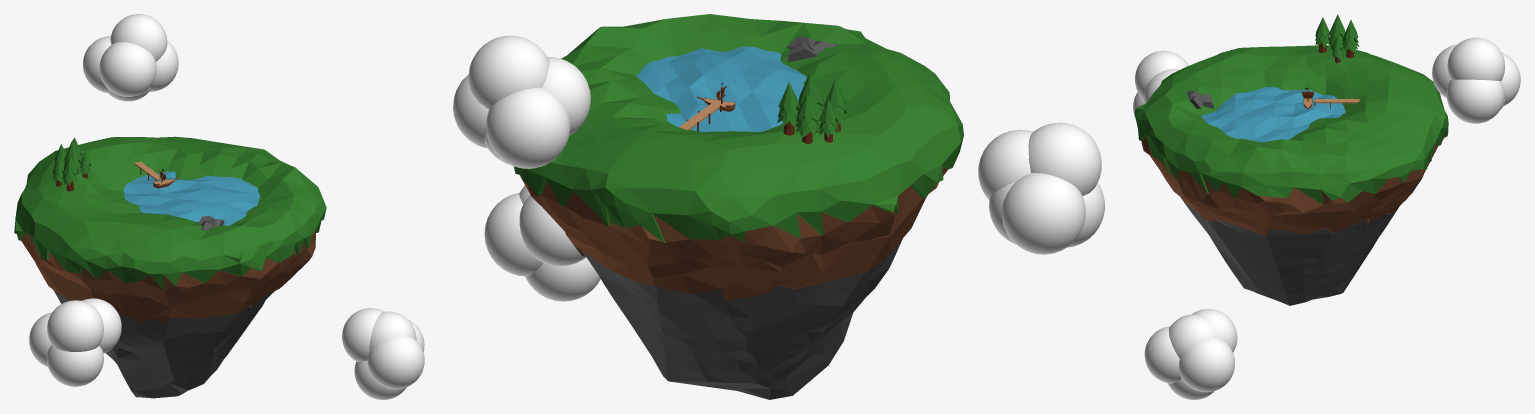
The picture shows the model from 3 angles, left to right: view 1: azimuth 30°, elevation 25°; view 2: azimuth 150°, elevation 25°; view 3: azimuth 270°, elevation 25°; orthographic projection. The views are drawn at different scales.
Visible parts, largest first — view 1: Island, Clouds; view 2: Island, Clouds; view 3: Island, Clouds.
Part boxes in pixels (box(x1,y1,x2,y2)): Island: box(14, 136, 326, 398); Clouds: box(29, 14, 424, 399); Island: box(513, 14, 963, 399); Clouds: box(453, 35, 1104, 301); Island: box(1134, 14, 1448, 305); Clouds: box(1133, 37, 1520, 399).
Bounding box in the file's own units: 43.55 × 32.03 × 36.79.
